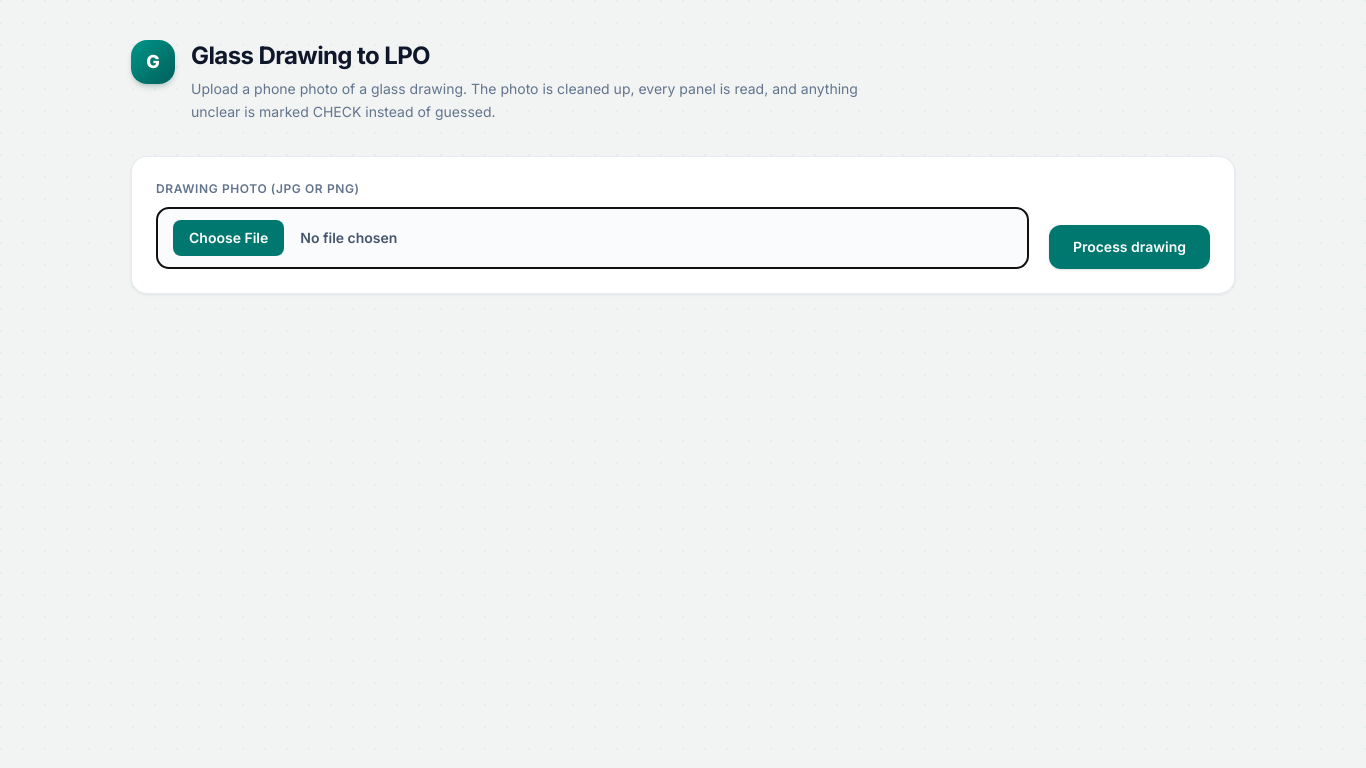
App › shows a clear message when the server cannot be reached
This screenshot has width=1366, height=768.
Earlier steps of the test are not shown.
Click the button "Process drawing": click(1129, 246) [1049,224,1210,268]
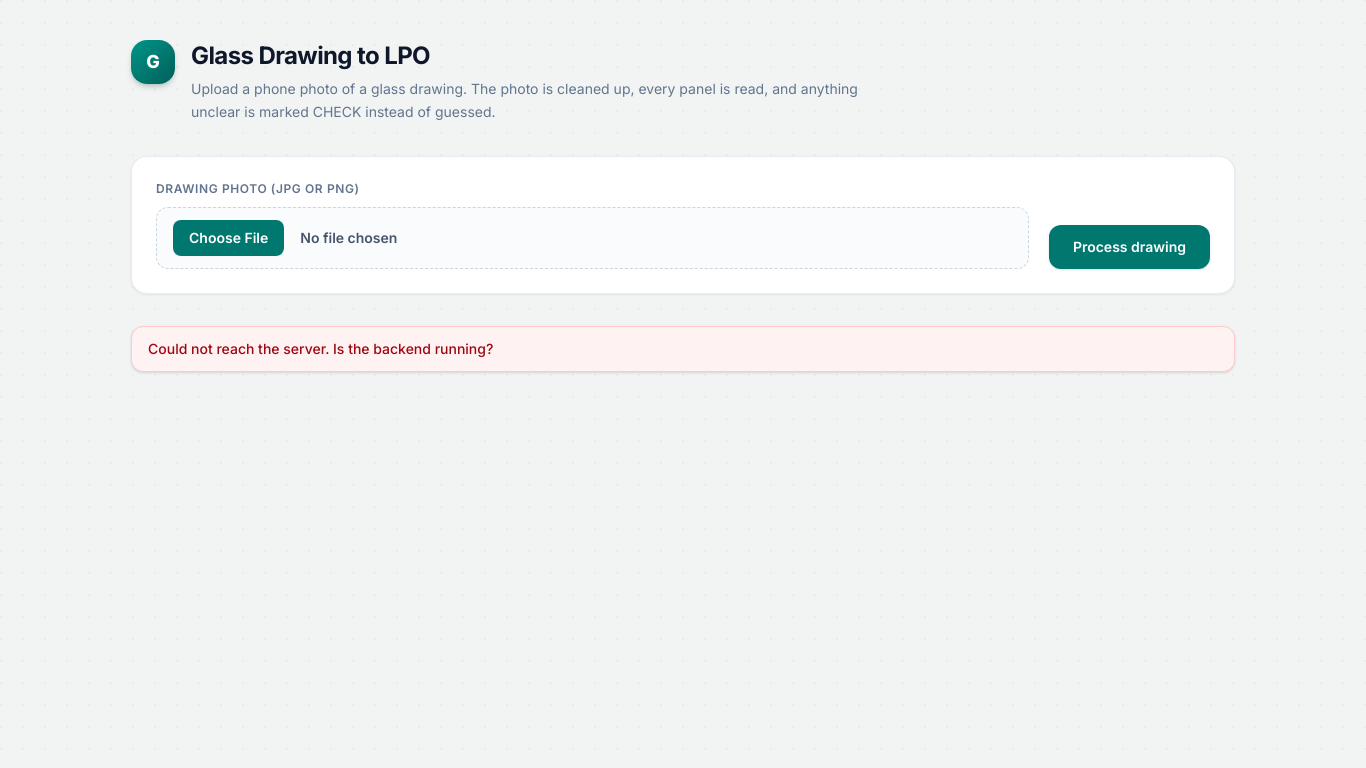
Result: the message reads "Could not reach the server. Is the backend running?" at [148,340,493,356]
